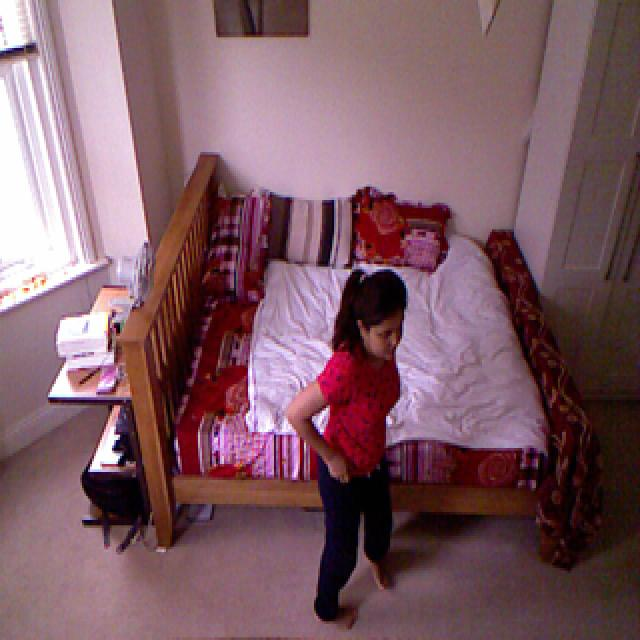standing: (291, 258, 422, 630)
